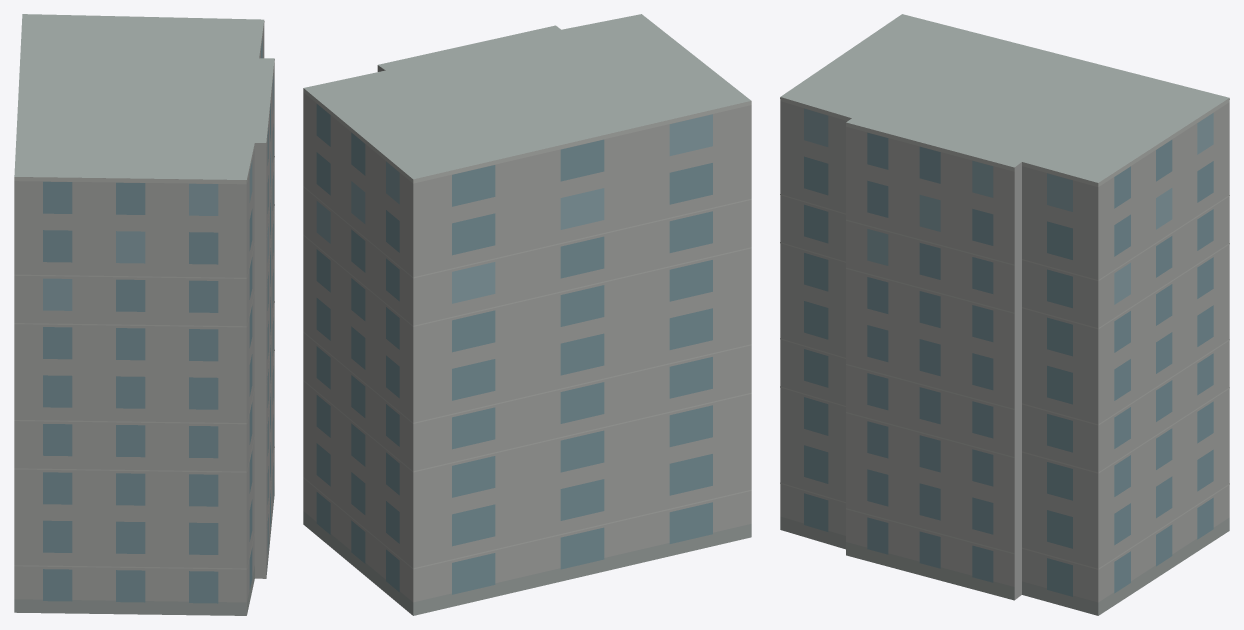
Rendered from survey-upis-32952929.glb.
3 views of the same model, side by side, from view 1: azimuth 30°, elevation 25°; view 2: azimuth 150°, elevation 25°; view 3: azimuth 270°, elevation 25° (orthographic).
Parts seen in each view (by area): view 1: survey-upis-32952929.tmp; view 2: survey-upis-32952929.tmp; view 3: survey-upis-32952929.tmp.
Boxes of the visible parts, <box> form: survey-upis-32952929.tmp: <box>14,14,274,615</box>; survey-upis-32952929.tmp: <box>303,14,751,615</box>; survey-upis-32952929.tmp: <box>780,14,1229,615</box>.
Bounding box in the file's own units: 21.12 × 25.2 × 23.73.
